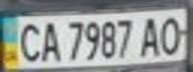7: (60, 18, 84, 61), (115, 16, 139, 58)
8: (100, 17, 121, 61)
9: (81, 17, 103, 61)
A: (36, 18, 63, 63), (136, 14, 163, 57)
C: (12, 19, 42, 63)
O: (157, 12, 187, 56)
